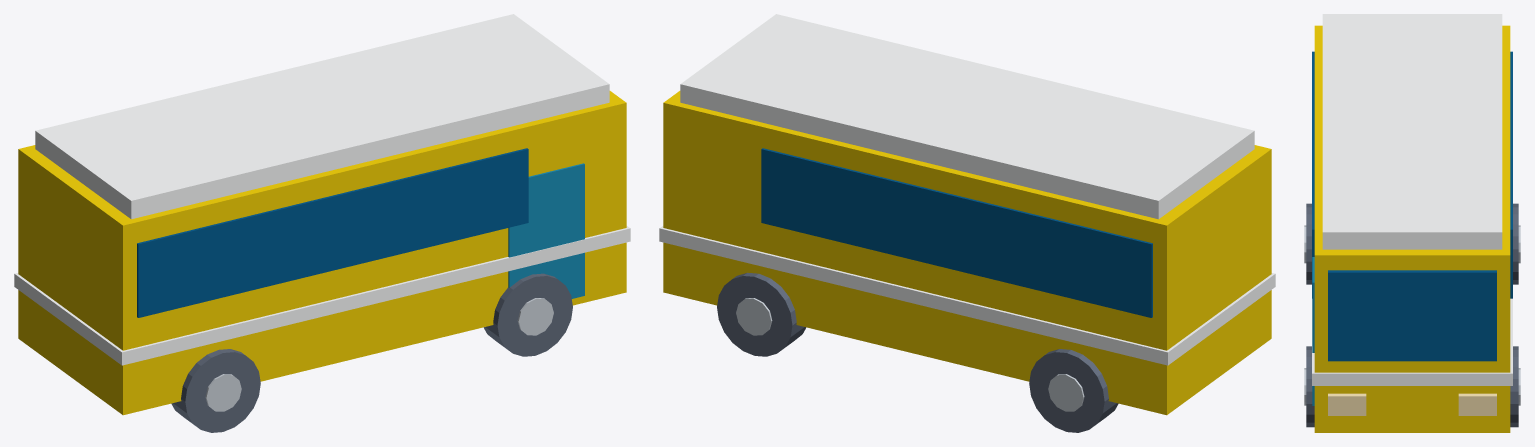
Rendered from travel-icon-bus.glb.
The picture shows the model from 3 angles, left to right: view 1: azimuth 30°, elevation 25°; view 2: azimuth 150°, elevation 25°; view 3: azimuth 270°, elevation 25°; orthographic projection. The views are drawn at different scales.
Visible parts, largest first — view 1: bus_body, bus_roof, bus_window_band, bus_stripe, bus_door, bus_wheel_rear_r, bus_wheel_front_r, bus_hub_rear_r, bus_hub_front_r; view 2: bus_body, bus_roof, bus_window_band, bus_stripe, bus_wheel_rear_l, bus_wheel_front_l, bus_hub_rear_l, bus_hub_front_l; view 3: bus_roof, bus_body, bus_windscreen, bus_stripe, bus_window_band, bus_headlight_l, bus_headlight_r, bus_wheel_front_l, bus_wheel_front_r, bus_wheel_rear_l, bus_wheel_rear_r, bus_door.
Boxes of the visible parts, x1,y1,x2,y2 form: bus_body: [18, 91, 626, 415]; bus_roof: [35, 14, 609, 219]; bus_window_band: [137, 148, 528, 317]; bus_stripe: [14, 226, 630, 365]; bus_door: [508, 163, 584, 298]; bus_wheel_rear_r: [171, 349, 260, 432]; bus_wheel_front_r: [483, 273, 572, 356]; bus_hub_rear_r: [205, 374, 241, 411]; bus_hub_front_r: [517, 298, 553, 335]; bus_body: [663, 91, 1271, 415]; bus_roof: [680, 14, 1254, 219]; bus_window_band: [761, 148, 1152, 317]; bus_stripe: [659, 226, 1275, 365]; bus_wheel_rear_l: [1029, 349, 1118, 432]; bus_wheel_front_l: [717, 272, 806, 356]; bus_hub_rear_l: [1048, 374, 1084, 411]; bus_hub_front_l: [736, 298, 772, 335]; bus_roof: [1322, 14, 1502, 249]; bus_body: [1314, 25, 1510, 432]; bus_windscreen: [1328, 270, 1496, 361]; bus_stripe: [1312, 298, 1512, 385]; bus_window_band: [1312, 51, 1512, 298]; bus_headlight_l: [1458, 393, 1496, 415]; bus_headlight_r: [1328, 393, 1366, 415]; bus_wheel_front_l: [1510, 346, 1518, 427]; bus_wheel_front_r: [1306, 346, 1314, 427]; bus_wheel_rear_l: [1513, 203, 1518, 284]; bus_wheel_rear_r: [1306, 203, 1311, 284]; bus_door: [1312, 257, 1314, 405].
Size of the model in its own units: 2.04 by 0.93 by 0.795.
